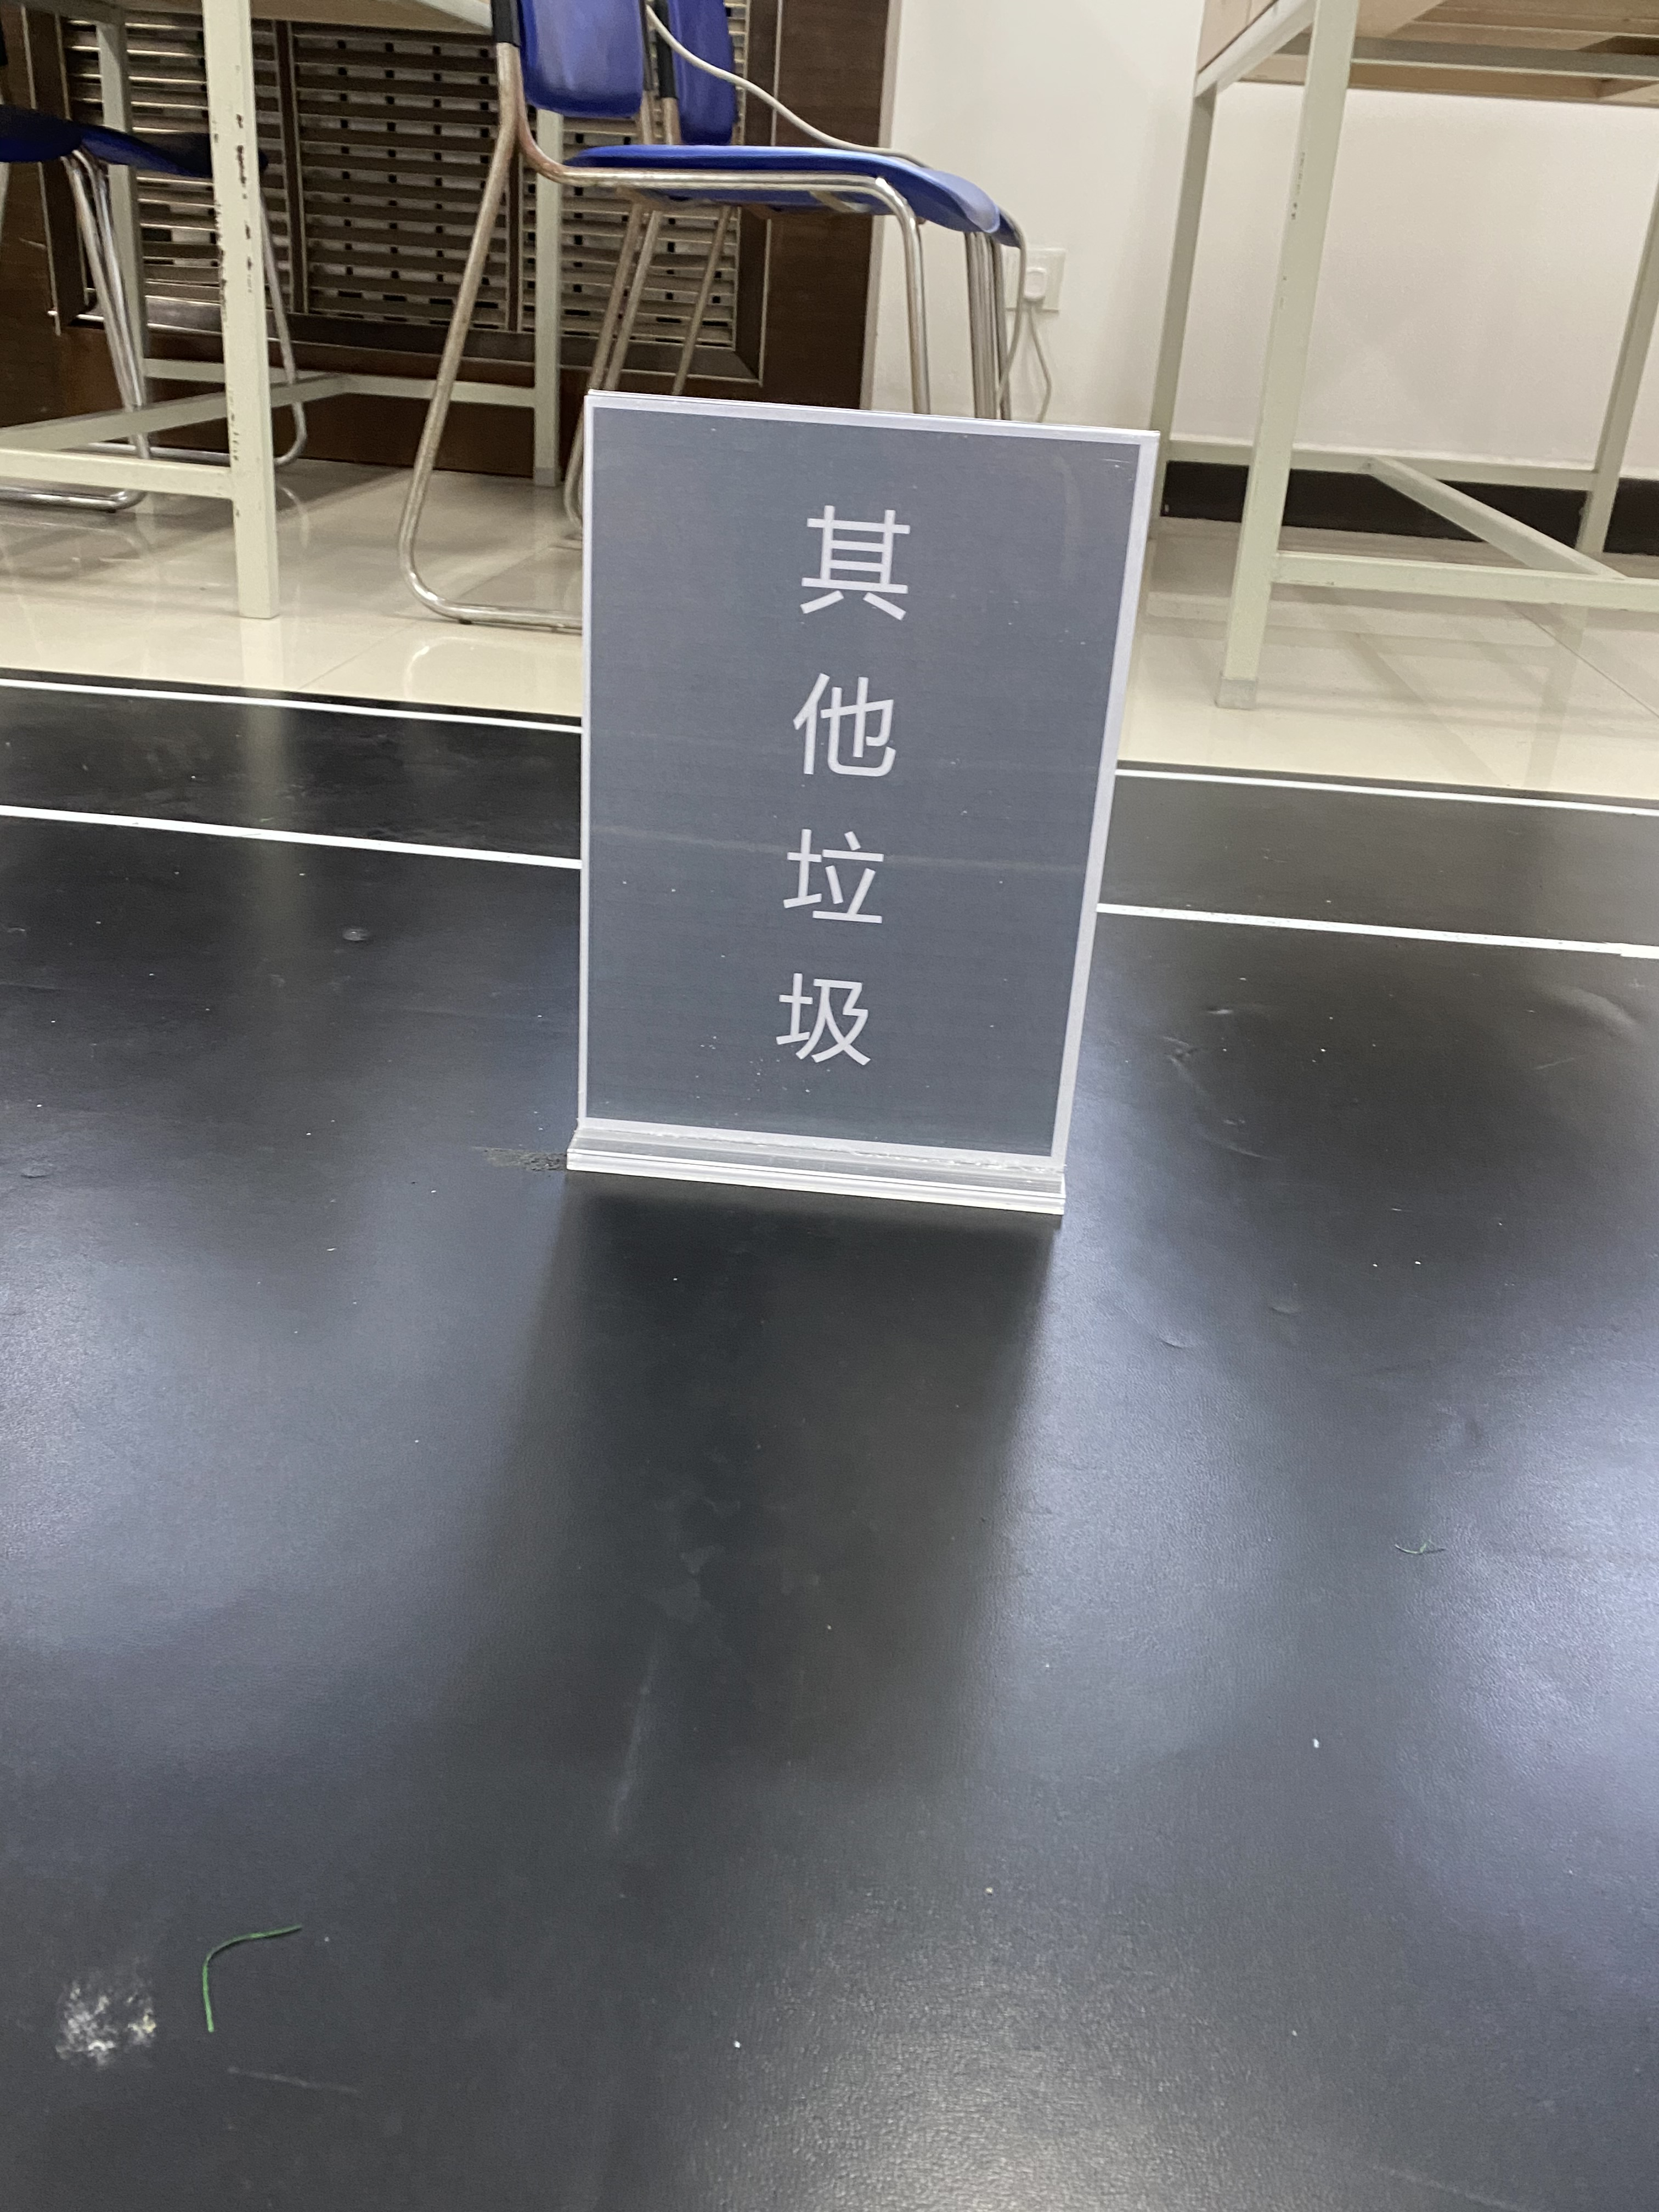black: (598, 420, 1061, 1118)
